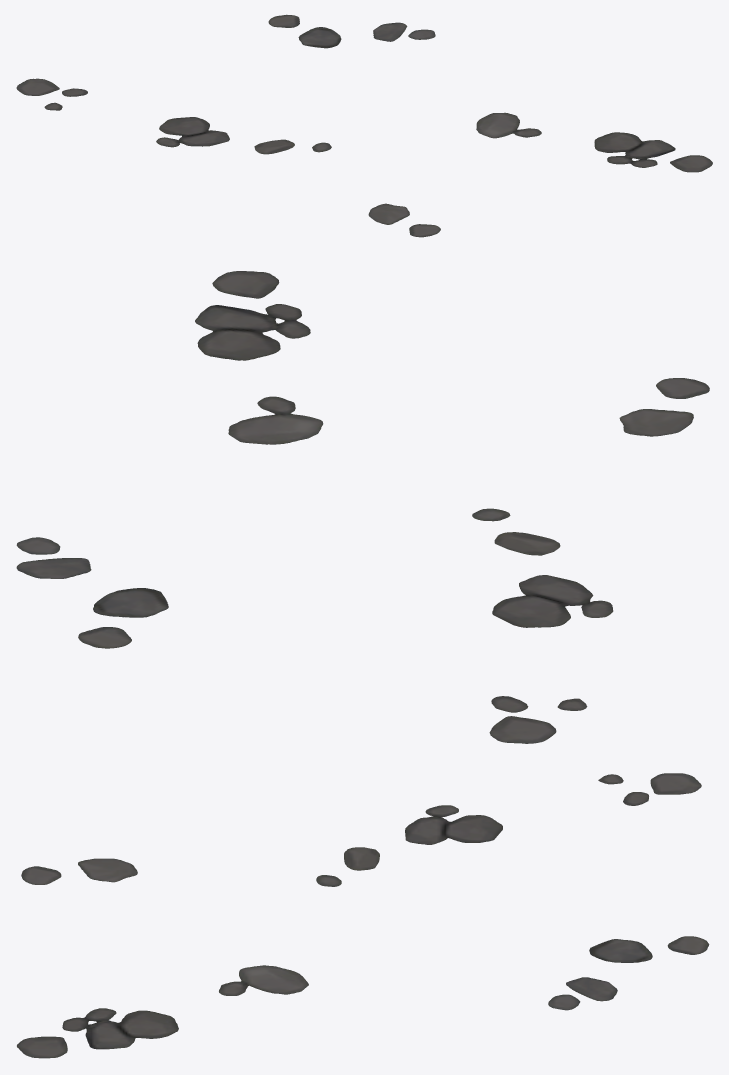
The model's file is stage_mine_shrub005_rock.FBX.
3 renders of one model, top to bottom at view 1: azimuth 30°, elevation 25°; view 2: azimuth 150°, elevation 25°; view 3: azimuth 270°, elevation 25°, orthographic. The views are drawn at different scales.
Parts seen in each view (by area): view 1: stage_mine_shrub005_rock; view 2: stage_mine_shrub005_rock; view 3: stage_mine_shrub005_rock.
Boxes of the visible parts, box(x1,y1,x2,y2) form: stage_mine_shrub005_rock: box(16, 14, 712, 237); stage_mine_shrub005_rock: box(16, 271, 709, 743); stage_mine_shrub005_rock: box(17, 773, 709, 1058).
Size of the model in its own units: 364 by 2.29e-14 by 375.
